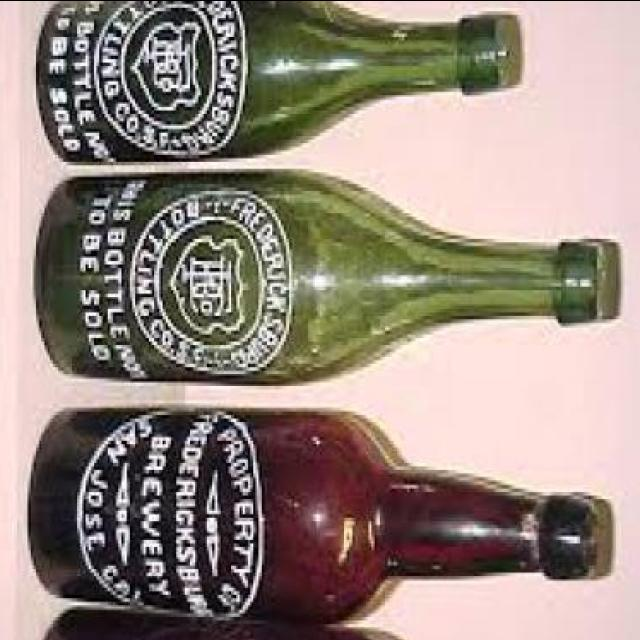kaca: (25, 407, 612, 616), (36, 164, 611, 373), (39, 0, 522, 161), (48, 597, 408, 640)
